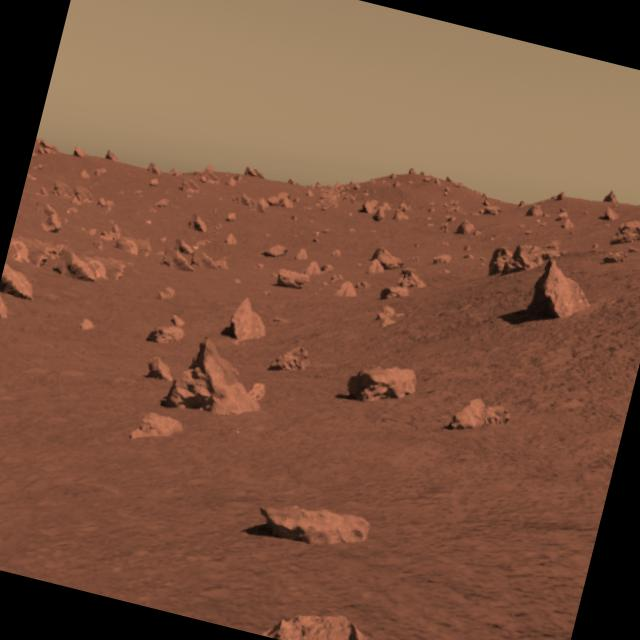rock: (159, 330, 284, 434), (250, 482, 386, 562), (262, 582, 413, 640), (528, 255, 596, 327), (340, 354, 420, 412), (216, 286, 279, 352), (444, 388, 506, 440)
